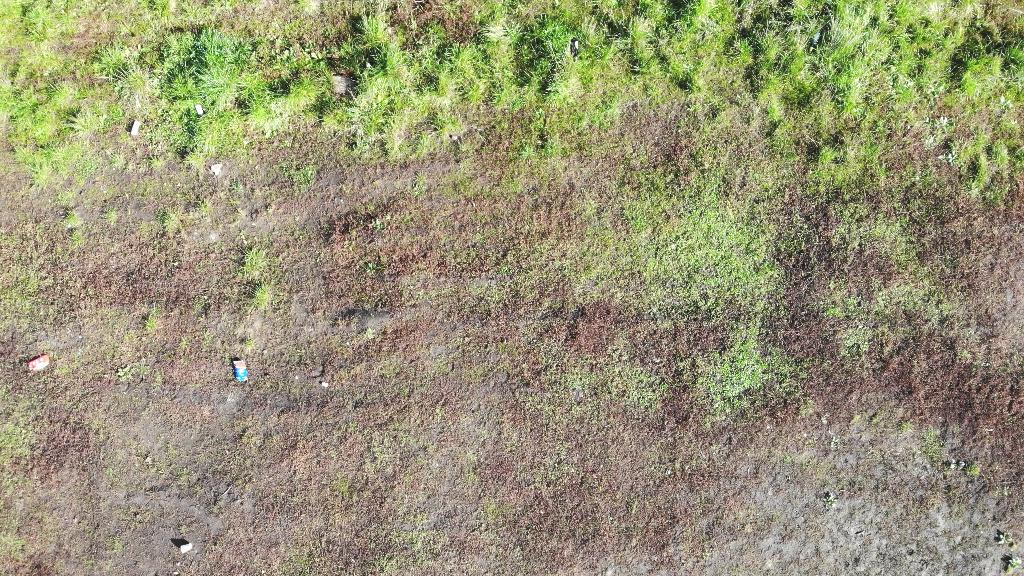garbage: (230, 352, 253, 386), (25, 348, 50, 374), (27, 353, 51, 371), (807, 30, 824, 53), (233, 359, 249, 381), (570, 38, 579, 62), (180, 543, 194, 554), (130, 122, 140, 135), (194, 104, 205, 115), (321, 381, 330, 388), (78, 347, 82, 355), (80, 333, 85, 338), (346, 341, 351, 345), (296, 376, 300, 380)
